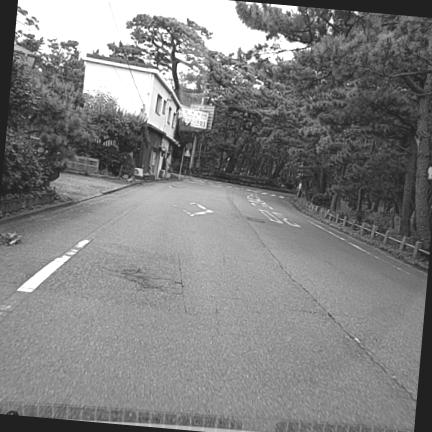Road: (0, 179, 426, 429)
